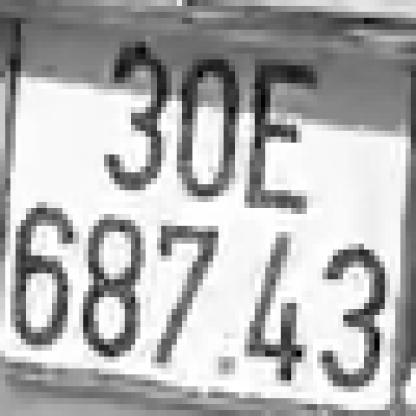0: (182, 59, 234, 202)
3: (104, 42, 172, 196), (317, 238, 380, 386)
4: (239, 226, 302, 374)
6: (10, 208, 73, 339)
7: (156, 220, 213, 356)
8: (83, 214, 140, 351)
E: (250, 65, 312, 208)
